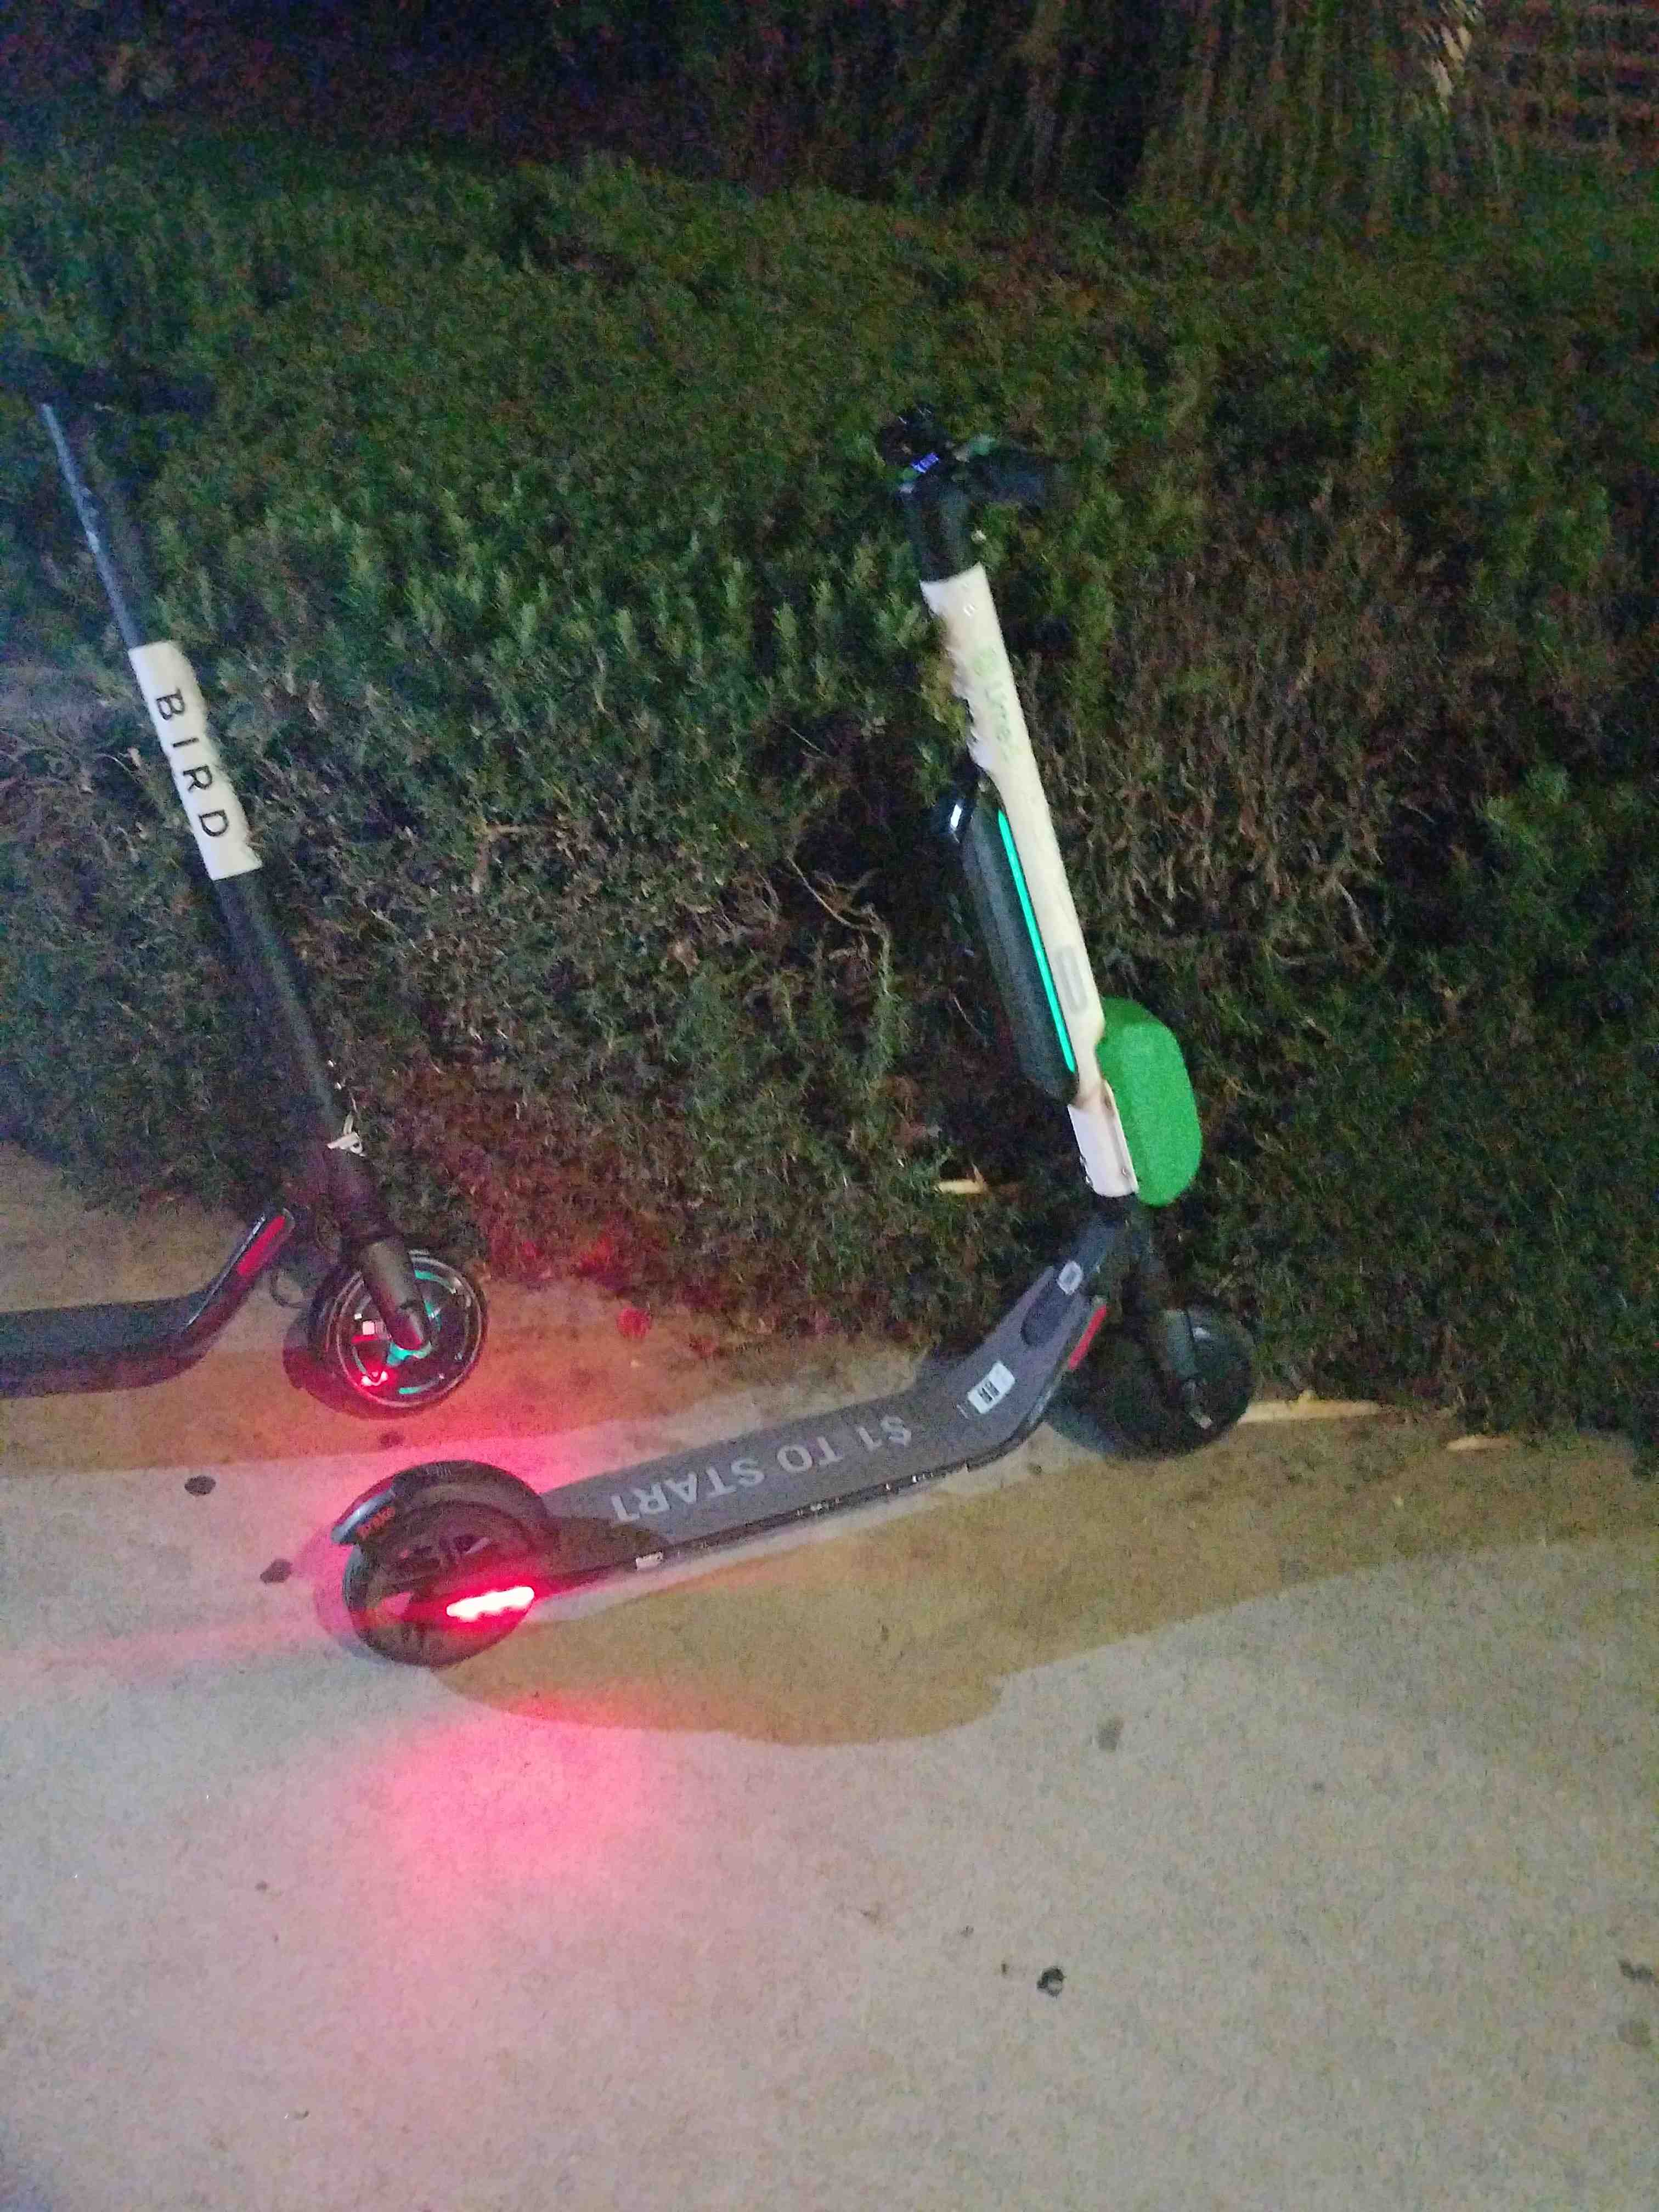scooter: (261, 354, 1258, 1703)
